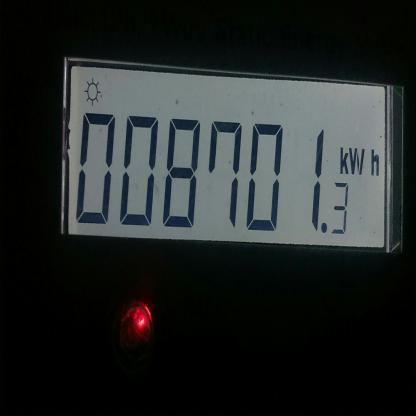.: (334, 140, 384, 177)
0: (321, 219, 329, 235)
1: (74, 109, 118, 229), (120, 111, 159, 229), (242, 120, 281, 230)
2: (309, 125, 325, 231)
4: (328, 180, 354, 236)
8: (204, 116, 240, 235)
9: (164, 115, 203, 227)
